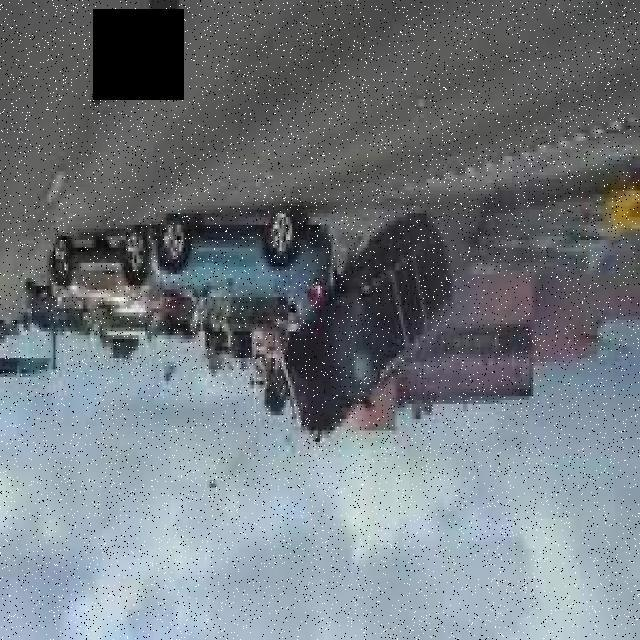severe: (279, 204, 463, 463)
